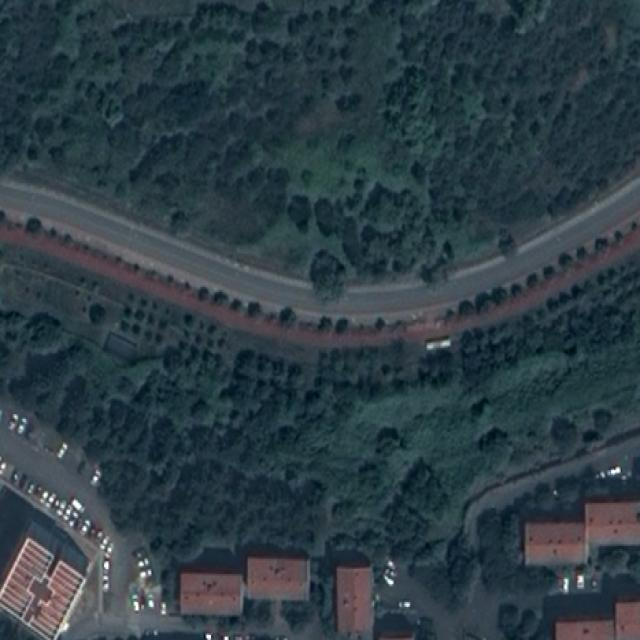Batiment: (0, 537, 85, 639), (542, 585, 640, 639), (180, 548, 244, 616), (331, 551, 374, 639), (248, 557, 309, 600), (525, 522, 584, 566), (585, 501, 640, 546)
